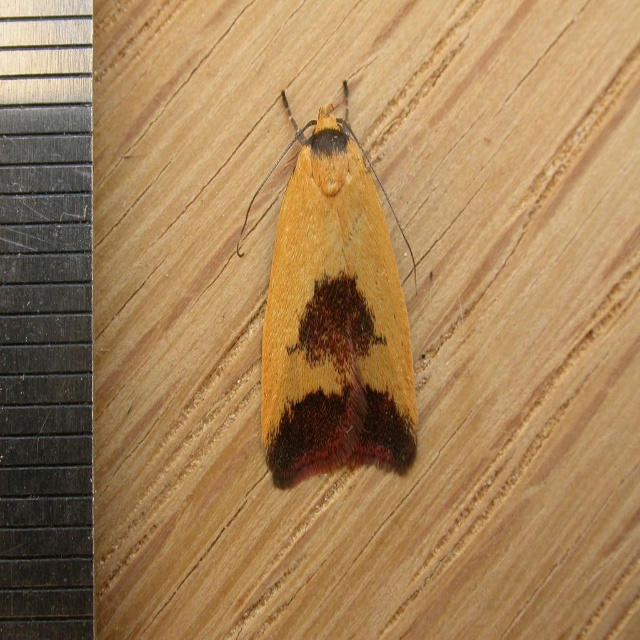Moths and butterflies: (239, 81, 432, 493)
